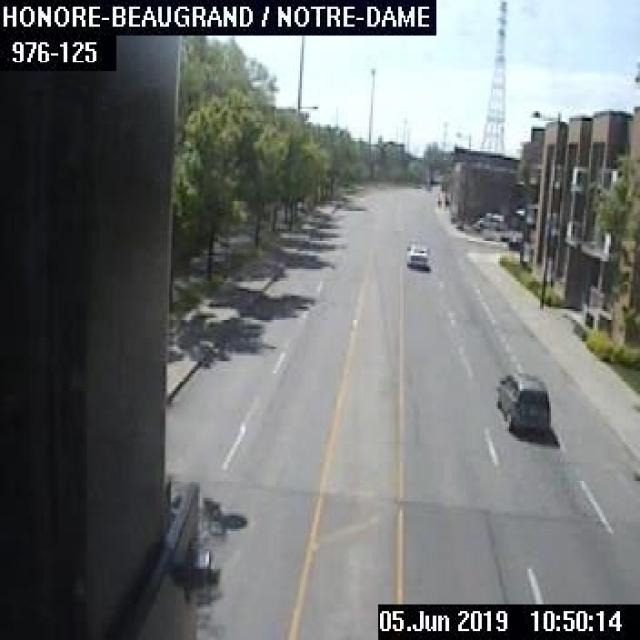vehicle: (494, 372, 549, 431), (404, 240, 431, 268), (475, 210, 502, 230)
